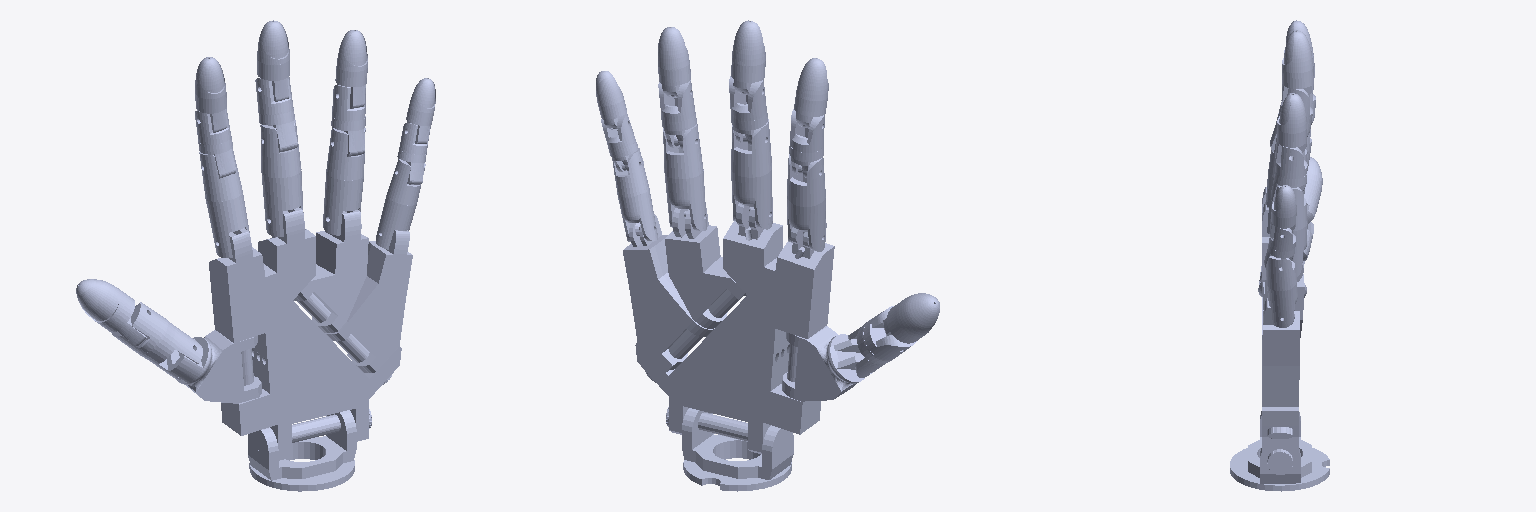
--- What the picture shows (computed from the rendered views, not written in the file) ---
The picture shows the robot from 3 angles, left to right: view 1: azimuth 30°, elevation 25°; view 2: azimuth 150°, elevation 25°; view 3: azimuth 270°, elevation 25°; orthographic projection.
Model hand_model with 16 links and 15 joints (15 revolute), rooted at palm, posed all joints at 0.
Visible links, largest first — view 1: palm, thumb_link_1, middle_link_1, ring_link_1, index_link_1, thumb_link_2, thumb_link_3, little_link_1, middle_link_3, ring_link_3, index_link_3, middle_link_2 (+4 smaller); view 2: palm, thumb_link_1, middle_link_1, ring_link_1, index_link_1, little_link_1, thumb_link_3, middle_link_3, thumb_link_2, index_link_3, ring_link_3, middle_link_2 (+4 smaller); view 3: palm, little_link_1, middle_link_3, ring_link_3, ring_link_2, little_link_3, ring_link_1, thumb_link_3, little_link_2.
Boxes of the visible links, x1,y1,x2,y2 form: palm: [209, 207, 412, 491]; thumb_link_1: [167, 330, 261, 403]; middle_link_1: [260, 120, 303, 236]; ring_link_1: [323, 128, 365, 235]; index_link_1: [199, 147, 249, 257]; thumb_link_2: [112, 302, 202, 380]; thumb_link_3: [76, 279, 146, 345]; little_link_1: [376, 159, 425, 249]; middle_link_3: [257, 20, 289, 101]; ring_link_3: [335, 30, 367, 108]; index_link_3: [195, 57, 226, 132]; middle_link_2: [255, 77, 297, 152]; palm: [623, 197, 834, 491]; thumb_link_1: [782, 326, 864, 401]; middle_link_1: [731, 119, 772, 229]; ring_link_1: [663, 124, 706, 230]; index_link_1: [787, 154, 825, 251]; little_link_1: [612, 148, 657, 241]; thumb_link_3: [883, 293, 939, 343]; middle_link_3: [731, 20, 765, 94]; thumb_link_2: [848, 306, 916, 377]; index_link_3: [794, 58, 828, 128]; ring_link_3: [658, 27, 690, 97]; middle_link_2: [729, 76, 769, 145]; palm: [1230, 187, 1329, 491]; little_link_1: [1266, 256, 1297, 327]; middle_link_3: [1281, 30, 1313, 104]; ring_link_3: [1275, 93, 1306, 162]; ring_link_2: [1271, 146, 1307, 203]; little_link_3: [1270, 185, 1296, 238]; ring_link_1: [1276, 186, 1307, 276]; thumb_link_3: [1304, 157, 1322, 223]; little_link_2: [1264, 227, 1295, 270].
Bounding box of the posed robot: 0.1771 × 0.0465 × 0.2191 m (x, y, z).
Meshes: 16 distinct files referenced, 16 mesh visuals loaded (16 binary STL).

robot.urdf — hand_model:
<?xml version="1.0" encoding="utf-8" ?>
<!-- This URDF was automatically created by SolidWorks to URDF Exporter! Originally created by Stephen Brawner ([email redacted]) 
     Commit Version: 1.6.0-4-g7f85cfe  Build Version: 1.6.7995.38578
     For more information, please see http://wiki.ros.org/sw_urdf_exporter -->
<robot name="hand_model">
    <link name="palm">
        <inertial>
            <origin xyz="0.00398178507403143 8.10912535103292E-05 0.0640495520207742" rpy="0 0 0" />
            <mass value="0.111751758328988" />
            <inertia ixx="6.59202525142851E-05" ixy="-1.22829107034955E-07" ixz="1.81754919948642E-05" iyy="9.3013080838165E-05" iyz="2.30342036318053E-07" izz="3.38720512333921E-05" />
        </inertial>
        <visual>
            <origin xyz="0 0 0" rpy="0 0 0" />
            <geometry>
                <mesh filename="package://hand_model/meshes/palm.STL" />
            </geometry>
            <material name="">
                <color rgba="0.792156862745098 0.819607843137255 0.933333333333333 1" />
            </material>
        </visual>
        <collision>
            <origin xyz="0 0 0" rpy="0 0 0" />
            <geometry>
                <mesh filename="package://hand_model/meshes/palm.STL" />
            </geometry>
        </collision>
    </link>
    <link name="thumb_link_1">
        <inertial>
            <origin xyz="0.000480535490973766 0.0145868596829117 0.002112956638099" rpy="0 0 0" />
            <mass value="0.0113562962089711" />
            <inertia ixx="1.13781700766449E-06" ixy="-3.17874553723836E-09" ixz="1.02179230912118E-08" iyy="9.83244760493048E-07" iyz="7.32596805137895E-08" izz="7.56438518318171E-07" />
        </inertial>
        <visual>
            <origin xyz="0 0 0" rpy="0 0 0" />
            <geometry>
                <mesh filename="package://hand_model/meshes/thumb_link_1.STL" />
            </geometry>
            <material name="">
                <color rgba="0.792156862745098 0.819607843137255 0.933333333333333 1" />
            </material>
        </visual>
        <collision>
            <origin xyz="0 0 0" rpy="0 0 0" />
            <geometry>
                <mesh filename="package://hand_model/meshes/thumb_link_1.STL" />
            </geometry>
        </collision>
    </link>
    <joint name="thumb_joint_1" type="revolute">
        <origin xyz="-0.030154 -2.0111E-05 0.05991" rpy="-0.083072 0 1.5708" />
        <parent link="palm" />
        <child link="thumb_link_1" />
        <axis xyz="0 0 1" />
        <limit lower="-2" upper="2" effort="15" velocity="137" />
    </joint>
    <link name="thumb_link_2">
        <inertial>
            <origin xyz="-0.00303085130066873 0.017257431665413 -0.000249993554026592" rpy="0 0 0" />
            <mass value="0.00578743285449284" />
            <inertia ixx="3.72260695118556E-07" ixy="6.77304435528928E-09" ixz="6.94275441710355E-13" iyy="3.36039703432571E-07" iyz="5.44710417598588E-13" izz="2.90221029790483E-07" />
        </inertial>
        <visual>
            <origin xyz="0 0 0" rpy="0 0 0" />
            <geometry>
                <mesh filename="package://hand_model/meshes/thumb_link_2.STL" />
            </geometry>
            <material name="">
                <color rgba="0.792156862745098 0.819607843137255 0.933333333333333 1" />
            </material>
        </visual>
        <collision>
            <origin xyz="0 0 0" rpy="0 0 0" />
            <geometry>
                <mesh filename="package://hand_model/meshes/thumb_link_2.STL" />
            </geometry>
        </collision>
    </link>
    <joint name="thumb_joint_2" type="revolute">
        <origin xyz="-0.002073 0.032273 0.012004" rpy="0.82045 0.054788 -0.71905" />
        <parent link="thumb_link_1" />
        <child link="thumb_link_2" />
        <axis xyz="0 0 1" />
        <limit lower="-2" upper="2" effort="15" velocity="137" />
    </joint>
    <link name="thumb_link_3">
        <inertial>
            <origin xyz="-0.00349327848726758 0.0128547260693688 -9.39948939422675E-06" rpy="0 0 0" />
            <mass value="0.00408620369773343" />
            <inertia ixx="1.85582766063067E-07" ixy="-8.83579093640966E-09" ixz="-1.32434624542555E-10" iyy="1.61808260214828E-07" iyz="-5.23413946701733E-11" izz="1.9595038842159E-07" />
        </inertial>
        <visual>
            <origin xyz="0 0 0" rpy="0 0 0" />
            <geometry>
                <mesh filename="package://hand_model/meshes/thumb_link_3.STL" />
            </geometry>
            <material name="">
                <color rgba="0.792156862745098 0.819607843137255 0.933333333333333 1" />
            </material>
        </visual>
        <collision>
            <origin xyz="0 0 0" rpy="0 0 0" />
            <geometry>
                <mesh filename="package://hand_model/meshes/thumb_link_3.STL" />
            </geometry>
        </collision>
    </link>
    <joint name="thumb_joint_3" type="revolute">
        <origin xyz="-0.007204 0.027206 -0.00025" rpy="0 0 0" />
        <parent link="thumb_link_2" />
        <child link="thumb_link_3" />
        <axis xyz="0 0 1" />
        <limit lower="-2" upper="2" effort="15" velocity="137" />
    </joint>
    <link name="index_link_1">
        <inertial>
            <origin xyz="0.00407338133198946 0.0177525322104453 2.43319666984321E-08" rpy="0 0 0" />
            <mass value="0.0046466246966024" />
            <inertia ixx="3.38369766839694E-07" ixy="-2.47947379691602E-08" ixz="1.44225221072837E-10" iyy="2.24949299831406E-07" iyz="-2.44769897321249E-11" izz="2.9890250388258E-07" />
        </inertial>
        <visual>
            <origin xyz="0 0 0" rpy="0 0 0" />
            <geometry>
                <mesh filename="package://hand_model/meshes/index_link_1.STL" />
            </geometry>
            <material name="">
                <color rgba="0.792156862745098 0.819607843137255 0.933333333333333 1" />
            </material>
        </visual>
        <collision>
            <origin xyz="0 0 0" rpy="0 0 0" />
            <geometry>
                <mesh filename="package://hand_model/meshes/index_link_1.STL" />
            </geometry>
        </collision>
    </link>
    <joint name="index_joint_1" type="revolute">
        <origin xyz="-0.035268 0.00047989 0.12131" rpy="1.4739 0 1.5708" />
        <parent link="palm" />
        <child link="index_link_1" />
        <axis xyz="0 0 1" />
        <limit lower="-2" upper="2" effort="15" velocity="137" />
    </joint>
    <link name="index_link_2">
        <inertial>
            <origin xyz="-1.5439372539866E-05 0.010908424048257 3.00263251588884E-07" rpy="0 0 0" />
            <mass value="0.00296941760010457" />
            <inertia ixx="1.09847057187147E-07" ixy="-8.3784028766554E-09" ixz="4.58168497393427E-12" iyy="9.39400733606131E-08" iyz="5.81266068790845E-12" izz="1.09028692776289E-07" />
        </inertial>
        <visual>
            <origin xyz="0 0 0" rpy="0 0 0" />
            <geometry>
                <mesh filename="package://hand_model/meshes/index_link_2.STL" />
            </geometry>
            <material name="">
                <color rgba="0.792156862745098 0.819607843137255 0.933333333333333 1" />
            </material>
        </visual>
        <collision>
            <origin xyz="0 0 0" rpy="0 0 0" />
            <geometry>
                <mesh filename="package://hand_model/meshes/index_link_2.STL" />
            </geometry>
        </collision>
    </link>
    <joint name="index_joint_2" type="revolute">
        <origin xyz="0.0076786 0.034995 0" rpy="0 0 0" />
        <parent link="index_link_1" />
        <child link="index_link_2" />
        <axis xyz="0 0 1" />
        <limit lower="-2" upper="2" effort="15" velocity="137" />
    </joint>
    <link name="index_link_3">
        <inertial>
            <origin xyz="-0.000487872429690561 0.0114597226343094 -1.57240996635777E-06" rpy="0 0 0" />
            <mass value="0.00245834972177606" />
            <inertia ixx="8.11602987802594E-08" ixy="-5.06755476403747E-09" ixz="-2.83209703693174E-11" iyy="6.0922204814845E-08" iyz="-3.32151067881427E-11" izz="8.42602481875842E-08" />
        </inertial>
        <visual>
            <origin xyz="0 0 0" rpy="0 0 0" />
            <geometry>
                <mesh filename="package://hand_model/meshes/index_link_3.STL" />
            </geometry>
            <material name="">
                <color rgba="0.792156862745098 0.819607843137255 0.933333333333333 1" />
            </material>
        </visual>
        <collision>
            <origin xyz="0 0 0" rpy="0 0 0" />
            <geometry>
                <mesh filename="package://hand_model/meshes/index_link_3.STL" />
            </geometry>
        </collision>
    </link>
    <joint name="index_joint_3" type="revolute">
        <origin xyz="0.000847006741910045 0.0230332928514179 0" rpy="0 0 0" />
        <parent link="index_link_2" />
        <child link="index_link_3" />
        <axis xyz="0 0 1" />
        <limit lower="-2" upper="2" effort="15" velocity="137" />
    </joint>
    <link name="middle_link_1">
        <inertial>
            <origin xyz="0.00251904243680481 0.0190498026770943 2.52256893923733E-06" rpy="0 0 0" />
            <mass value="0.00545626174368886" />
            <inertia ixx="4.46988355734783E-07" ixy="-1.79702663003493E-08" ixz="1.90530330665356E-10" iyy="2.89246503300969E-07" iyz="-1.41330773802651E-11" izz="3.9065421775643E-07" />
        </inertial>
        <visual>
            <origin xyz="0 0 0" rpy="0 0 0" />
            <geometry>
                <mesh filename="package://hand_model/meshes/middle_link_1.STL" />
            </geometry>
            <material name="">
                <color rgba="0.792156862745098 0.819607843137255 0.933333333333333 1" />
            </material>
        </visual>
        <collision>
            <origin xyz="0 0 0" rpy="0 0 0" />
            <geometry>
                <mesh filename="package://hand_model/meshes/middle_link_1.STL" />
            </geometry>
        </collision>
    </link>
    <joint name="middle_joint_1" type="revolute">
        <origin xyz="-0.0083551 0.00047989 0.12582" rpy="1.547 0 1.5708" />
        <parent link="palm" />
        <child link="middle_link_1" />
        <axis xyz="0 0 1" />
        <limit lower="-2" upper="2" effort="15" velocity="137" />
    </joint>
    <link name="middle_link_2">
        <inertial>
            <origin xyz="0.000880161188127726 0.0114746705006476 4.00731621696612E-07" rpy="0 0 0" />
            <mass value="0.00348681182236452" />
            <inertia ixx="1.41738873476372E-07" ixy="-1.24314266526586E-08" ixz="6.05937003196824E-12" iyy="1.24602391482965E-07" iyz="6.20347461624125E-12" izz="1.42495929181389E-07" />
        </inertial>
        <visual>
            <origin xyz="0 0 0" rpy="0 0 0" />
            <geometry>
                <mesh filename="package://hand_model/meshes/middle_link_2.STL" />
            </geometry>
            <material name="">
                <color rgba="0.792156862745098 0.819607843137255 0.933333333333333 1" />
            </material>
        </visual>
        <collision>
            <origin xyz="0 0 0" rpy="0 0 0" />
            <geometry>
                <mesh filename="package://hand_model/meshes/middle_link_2.STL" />
            </geometry>
        </collision>
    </link>
    <joint name="middle_joint_2" type="revolute">
        <origin xyz="0.00459697603869801 0.0375173079770415 0" rpy="0 0 0" />
        <parent link="middle_link_1" />
        <child link="middle_link_2" />
        <axis xyz="0 0 1" />
        <limit lower="-2" upper="2" effort="15" velocity="137" />
    </joint>
    <link name="middle_link_3">
        <inertial>
            <origin xyz="5.37425869840402E-05 0.0121009108879537 -1.66057694117681E-06" rpy="0 0 0" />
            <mass value="0.00288670521848281" />
            <inertia ixx="1.05394832954209E-07" ixy="-7.83485651909123E-09" ixz="-3.89173185887022E-11" iyy="8.03025413579198E-08" iyz="-4.15543641170679E-11" izz="1.10126113548967E-07" />
        </inertial>
        <visual>
            <origin xyz="0 0 0" rpy="0 0 0" />
            <geometry>
                <mesh filename="package://hand_model/meshes/middle_link_3.STL" />
            </geometry>
            <material name="">
                <color rgba="0.792156862745098 0.819607843137255 0.933333333333333 1" />
            </material>
        </visual>
        <collision>
            <origin xyz="0 0 0" rpy="0 0 0" />
            <geometry>
                <mesh filename="package://hand_model/meshes/middle_link_3.STL" />
            </geometry>
        </collision>
    </link>
    <joint name="middle_joint_3" type="revolute">
        <origin xyz="0.0027837 0.024157 0" rpy="0 0 0" />
        <parent link="middle_link_2" />
        <child link="middle_link_3" />
        <axis xyz="0 0 1" />
        <limit lower="-2" upper="2" effort="15" velocity="137" />
    </joint>
    <link name="ring_link_1">
        <inertial>
            <origin xyz="0.000823916052037396 0.018195238836138 5.00087841322841E-05" rpy="0 0 0" />
            <mass value="0.00464663274460316" />
            <inertia ixx="3.43469696913586E-07" ixy="-3.19119027240479E-09" ixz="1.45711871260807E-10" iyy="2.19848338835539E-07" iyz="1.81868990757054E-12" izz="2.98903887716956E-07" />
        </inertial>
        <visual>
            <origin xyz="0 0 0" rpy="0 0 0" />
            <geometry>
                <mesh filename="package://hand_model/meshes/ring_link_1.STL" />
            </geometry>
            <material name="">
                <color rgba="0.792156862745098 0.819607843137255 0.933333333333333 1" />
            </material>
        </visual>
        <collision>
            <origin xyz="0 0 0" rpy="0 0 0" />
            <geometry>
                <mesh filename="package://hand_model/meshes/ring_link_1.STL" />
            </geometry>
        </collision>
    </link>
    <joint name="ring_joint_1" type="revolute">
        <origin xyz="0.0226342745747556 0.00320405106578732 0.117484377731786" rpy="1.65768440995122 0 1.62662995106835" />
        <parent link="palm" />
        <child link="ring_link_1" />
        <axis xyz="0 0 1" />
        <limit lower="-2" upper="2" effort="15" velocity="137" />
    </joint>
    <link name="ring_link_2">
        <inertial>
            <origin xyz="-0.000432388535001244 0.0108998702030702 4.75443835173256E-07" rpy="0 0 0" />
            <mass value="0.00296941842138868" />
            <inertia ixx="1.10463879228306E-07" ixy="-7.74638165034737E-09" ixz="3.8240027072717E-12" iyy="9.3323265854841E-08" iyz="4.36314007998678E-12" izz="1.09028708081398E-07" />
        </inertial>
        <visual>
            <origin xyz="0 0 0" rpy="0 0 0" />
            <geometry>
                <mesh filename="package://hand_model/meshes/ring_link_2.STL" />
            </geometry>
            <material name="">
                <color rgba="0.792156862745098 0.819607843137255 0.933333333333333 1" />
            </material>
        </visual>
        <collision>
            <origin xyz="0 0 0" rpy="0 0 0" />
            <geometry>
                <mesh filename="package://hand_model/meshes/ring_link_2.STL" />
            </geometry>
        </collision>
    </link>
    <joint name="ring_joint_2" type="revolute">
        <origin xyz="0.0012788 0.035805 5E-05" rpy="0 0 0" />
        <parent link="ring_link_1" />
        <child link="ring_link_2" />
        <axis xyz="0 0 1" />
        <limit lower="-2" upper="2" effort="15" velocity="137" />
    </joint>
    <link name="ring_link_3">
        <inertial>
            <origin xyz="0.000515277857644728 0.0114586186078016 -1.57570140629087E-06" rpy="0 0 0" />
            <mass value="0.0024583610636929" />
            <inertia ixx="8.01251621607957E-08" ixy="-6.75175030101657E-09" ixz="-3.1017025931551E-11" iyy="6.19586614914186E-08" iyz="-3.05623454712637E-11" izz="8.42616837502922E-08" />
        </inertial>
        <visual>
            <origin xyz="0 0 0" rpy="0 0 0" />
            <geometry>
                <mesh filename="package://hand_model/meshes/ring_link_3.STL" />
            </geometry>
            <material name="">
                <color rgba="0.792156862745098 0.819607843137255 0.933333333333333 1" />
            </material>
        </visual>
        <collision>
            <origin xyz="0 0 0" rpy="0 0 0" />
            <geometry>
                <mesh filename="package://hand_model/meshes/ring_link_3.STL" />
            </geometry>
        </collision>
    </link>
    <joint name="ring_joint_3" type="revolute">
        <origin xyz="-3.40420420648219E-05 0.0230488360040028 0" rpy="0 0 0" />
        <parent link="ring_link_2" />
        <child link="ring_link_3" />
        <axis xyz="0 0 1" />
        <limit lower="-2" upper="2" effort="15" velocity="137" />
    </joint>
    <link name="little_link_1">
        <inertial>
            <origin xyz="-0.00024361 0.015179 0.0001294" rpy="0 0 0" />
            <mass value="0.0026906" />
            <inertia ixx="1.3814E-07" ixy="1.7664E-09" ixz="5.8481E-11" iyy="8.847E-08" iyz="4.1826E-12" izz="1.2024E-07" />
        </inertial>
        <visual>
            <origin xyz="0 0 0" rpy="0 0 0" />
            <geometry>
                <mesh filename="package://hand_model/meshes/little_link_1.STL" />
            </geometry>
            <material name="">
                <color rgba="0.79216 0.81961 0.93333 1" />
            </material>
        </visual>
        <collision>
            <origin xyz="0 0 0" rpy="0 0 0" />
            <geometry>
                <mesh filename="package://hand_model/meshes/little_link_1.STL" />
            </geometry>
        </collision>
    </link>
    <joint name="little_joint_1" type="revolute">
        <origin xyz="0.0471983745399469 0.000985065663559576 0.103855745405405" rpy="1.8247619964648 0 1.57975463552551" />
        <parent link="palm" />
        <child link="little_link_1" />
        <axis xyz="0 0 -1" />
        <limit lower="-2" upper="2" effort="15" velocity="137" />
    </joint>
    <link name="little_link_2">
        <inertial>
            <origin xyz="-5.14078945346441E-05 0.00909196530865719 1.45681774497974E-07" rpy="0 0 0" />
            <mass value="0.00171949570189397" />
            <inertia ixx="4.42251425969163E-08" ixy="-3.34385973164639E-09" ixz="2.12015704299987E-12" iyy="3.77628200395036E-08" iyz="3.02015825400748E-12" izz="4.38544223193975E-08" />
        </inertial>
        <visual>
            <origin xyz="0 0 0" rpy="0 0 0" />
            <geometry>
                <mesh filename="package://hand_model/meshes/little_link_2.STL" />
            </geometry>
            <material name="">
                <color rgba="0.792156862745098 0.819607843137255 0.933333333333333 1" />
            </material>
        </visual>
        <collision>
            <origin xyz="0 0 0" rpy="0 0 0" />
            <geometry>
                <mesh filename="package://hand_model/meshes/little_link_2.STL" />
            </geometry>
        </collision>
    </link>
    <joint name="little_joint_2" type="revolute">
        <origin xyz="-0.00076424 0.029852 0.00012939" rpy="0 0 0" />
        <parent link="little_link_1" />
        <child link="little_link_2" />
        <axis xyz="0 0 1" />
        <limit lower="-2" upper="2" effort="15" velocity="137" />
    </joint>
    <link name="little_link_3">
        <inertial>
            <origin xyz="0.000661822960255715 0.00953748399637797 -1.30618044281994E-06" rpy="0 0 0" />
            <mass value="0.00142350448976469" />
            <inertia ixx="3.20960725011177E-08" ixy="-2.89068356626485E-09" ixz="-1.27739873269651E-11" iyy="2.50612242140336E-08" iyz="-1.19962559085468E-11" izz="3.38966301117611E-08" />
        </inertial>
        <visual>
            <origin xyz="0 0 0" rpy="0 0 0" />
            <geometry>
                <mesh filename="package://hand_model/meshes/little_link_3.STL" />
            </geometry>
            <material name="">
                <color rgba="0.792156862745098 0.819607843137255 0.933333333333333 1" />
            </material>
        </visual>
        <collision>
            <origin xyz="0 0 0" rpy="0 0 0" />
            <geometry>
                <mesh filename="package://hand_model/meshes/little_link_3.STL" />
            </geometry>
        </collision>
    </link>
    <joint name="little_joint_3" type="revolute">
        <origin xyz="0.00062466 0.019201 0" rpy="0 0 0" />
        <parent link="little_link_2" />
        <child link="little_link_3" />
        <axis xyz="0 0 1" />
        <limit lower="-2" upper="2" effort="15" velocity="137" />
    </joint>
    <transmission name="trans_thumb_joint_1">
        <type>transmission_interface/SimpleTransmission</type>
        <joint name="thumb_joint_1">
            <hardwareInterface>hardware_interface/EffortJointInterface</hardwareInterface>
        </joint>
        <actuator name="thumb_joint_1_motor">
            <hardwareInterface>hardware_interface/EffortJointInterface</hardwareInterface>
            <mechanicalReduction>1</mechanicalReduction>
        </actuator>
    </transmission>
    <transmission name="trans_thumb_joint_2">
        <type>transmission_interface/SimpleTransmission</type>
        <joint name="thumb_joint_2">
            <hardwareInterface>hardware_interface/EffortJointInterface</hardwareInterface>
        </joint>
        <actuator name="thumb_joint_2_motor">
            <hardwareInterface>hardware_interface/EffortJointInterface</hardwareInterface>
            <mechanicalReduction>1</mechanicalReduction>
        </actuator>
    </transmission>
    <transmission name="trans_thumb_joint_3">
        <type>transmission_interface/SimpleTransmission</type>
        <joint name="thumb_joint_3">
            <hardwareInterface>hardware_interface/EffortJointInterface</hardwareInterface>
        </joint>
        <actuator name="thumb_joint_3_motor">
            <hardwareInterface>hardware_interface/EffortJointInterface</hardwareInterface>
            <mechanicalReduction>1</mechanicalReduction>
        </actuator>
    </transmission>
    <transmission name="trans_index_joint_1">
        <type>transmission_interface/SimpleTransmission</type>
        <joint name="index_joint_1">
            <hardwareInterface>hardware_interface/EffortJointInterface</hardwareInterface>
        </joint>
        <actuator name="index_joint_1_motor">
            <hardwareInterface>hardware_interface/EffortJointInterface</hardwareInterface>
            <mechanicalReduction>1</mechanicalReduction>
        </actuator>
    </transmission>
    <transmission name="trans_index_joint_2">
        <type>transmission_interface/SimpleTransmission</type>
        <joint name="index_joint_2">
            <hardwareInterface>hardware_interface/EffortJointInterface</hardwareInterface>
        </joint>
        <actuator name="index_joint_2_motor">
            <hardwareInterface>hardware_interface/EffortJointInterface</hardwareInterface>
            <mechanicalReduction>1</mechanicalReduction>
        </actuator>
    </transmission>
    <transmission name="trans_index_joint_3">
        <type>transmission_interface/SimpleTransmission</type>
        <joint name="index_joint_3">
            <hardwareInterface>hardware_interface/EffortJointInterface</hardwareInterface>
        </joint>
        <actuator name="index_joint_3_motor">
            <hardwareInterface>hardware_interface/EffortJointInterface</hardwareInterface>
            <mechanicalReduction>1</mechanicalReduction>
        </actuator>
    </transmission>
    <transmission name="trans_middle_joint_1">
        <type>transmission_interface/SimpleTransmission</type>
        <joint name="middle_joint_1">
            <hardwareInterface>hardware_interface/EffortJointInterface</hardwareInterface>
        </joint>
        <actuator name="middle_joint_1_motor">
            <hardwareInterface>hardware_interface/EffortJointInterface</hardwareInterface>
            <mechanicalReduction>1</mechanicalReduction>
        </actuator>
    </transmission>
    <transmission name="trans_middle_joint_2">
        <type>transmission_interface/SimpleTransmission</type>
        <joint name="middle_joint_2">
            <hardwareInterface>hardware_interface/EffortJointInterface</hardwareInterface>
        </joint>
        <actuator name="middle_joint_2_motor">
            <hardwareInterface>hardware_interface/EffortJointInterface</hardwareInterface>
            <mechanicalReduction>1</mechanicalReduction>
        </actuator>
    </transmission>
    <transmission name="trans_middle_joint_3">
        <type>transmission_interface/SimpleTransmission</type>
        <joint name="middle_joint_3">
            <hardwareInterface>hardware_interface/EffortJointInterface</hardwareInterface>
        </joint>
        <actuator name="middle_joint_3_motor">
            <hardwareInterface>hardware_interface/EffortJointInterface</hardwareInterface>
            <mechanicalReduction>1</mechanicalReduction>
        </actuator>
    </transmission>
    <transmission name="trans_ring_joint_1">
        <type>transmission_interface/SimpleTransmission</type>
        <joint name="ring_joint_1">
            <hardwareInterface>hardware_interface/EffortJointInterface</hardwareInterface>
        </joint>
        <actuator name="ring_joint_1_motor">
            <hardwareInterface>hardware_interface/EffortJointInterface</hardwareInterface>
            <mechanicalReduction>1</mechanicalReduction>
        </actuator>
    </transmission>
    <transmission name="trans_ring_joint_2">
        <type>transmission_interface/SimpleTransmission</type>
        <joint name="ring_joint_2">
            <hardwareInterface>hardware_interface/EffortJointInterface</hardwareInterface>
        </joint>
        <actuator name="ring_joint_2_motor">
            <hardwareInterface>hardware_interface/EffortJointInterface</hardwareInterface>
            <mechanicalReduction>1</mechanicalReduction>
        </actuator>
    </transmission>
    <transmission name="trans_ring_joint_3">
        <type>transmission_interface/SimpleTransmission</type>
        <joint name="ring_joint_3">
            <hardwareInterface>hardware_interface/EffortJointInterface</hardwareInterface>
        </joint>
        <actuator name="ring_joint_3_motor">
            <hardwareInterface>hardware_interface/EffortJointInterface</hardwareInterface>
            <mechanicalReduction>1</mechanicalReduction>
        </actuator>
    </transmission>
    <transmission name="trans_little_joint_1">
        <type>transmission_interface/SimpleTransmission</type>
        <joint name="little_joint_1">
            <hardwareInterface>hardware_interface/EffortJointInterface</hardwareInterface>
        </joint>
        <actuator name="little_joint_1_motor">
            <hardwareInterface>hardware_interface/EffortJointInterface</hardwareInterface>
            <mechanicalReduction>1</mechanicalReduction>
        </actuator>
    </transmission>
    <transmission name="trans_little_joint_2">
        <type>transmission_interface/SimpleTransmission</type>
        <joint name="little_joint_2">
            <hardwareInterface>hardware_interface/EffortJointInterface</hardwareInterface>
        </joint>
        <actuator name="little_joint_2_motor">
            <hardwareInterface>hardware_interface/EffortJointInterface</hardwareInterface>
            <mechanicalReduction>1</mechanicalReduction>
        </actuator>
    </transmission>
    <transmission name="trans_little_joint_3">
        <type>transmission_interface/SimpleTransmission</type>
        <joint name="little_joint_3">
            <hardwareInterface>hardware_interface/EffortJointInterface</hardwareInterface>
        </joint>
        <actuator name="little_joint_3_motor">
            <hardwareInterface>hardware_interface/EffortJointInterface</hardwareInterface>
            <mechanicalReduction>1</mechanicalReduction>
        </actuator>
    </transmission>
    <gazebo>
        <plugin name="gazebo_ros_control">
            <robotNamespace>/</robotNamespace>
        </plugin>
    </gazebo>
</robot>
